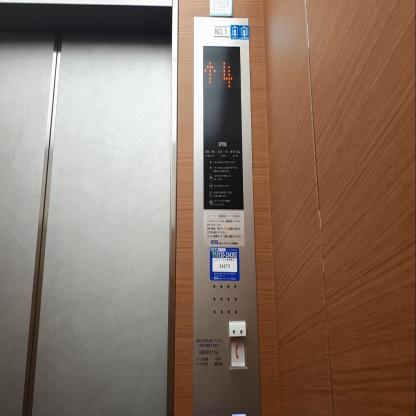call: (228, 332, 248, 373)
led: (200, 43, 246, 213)
